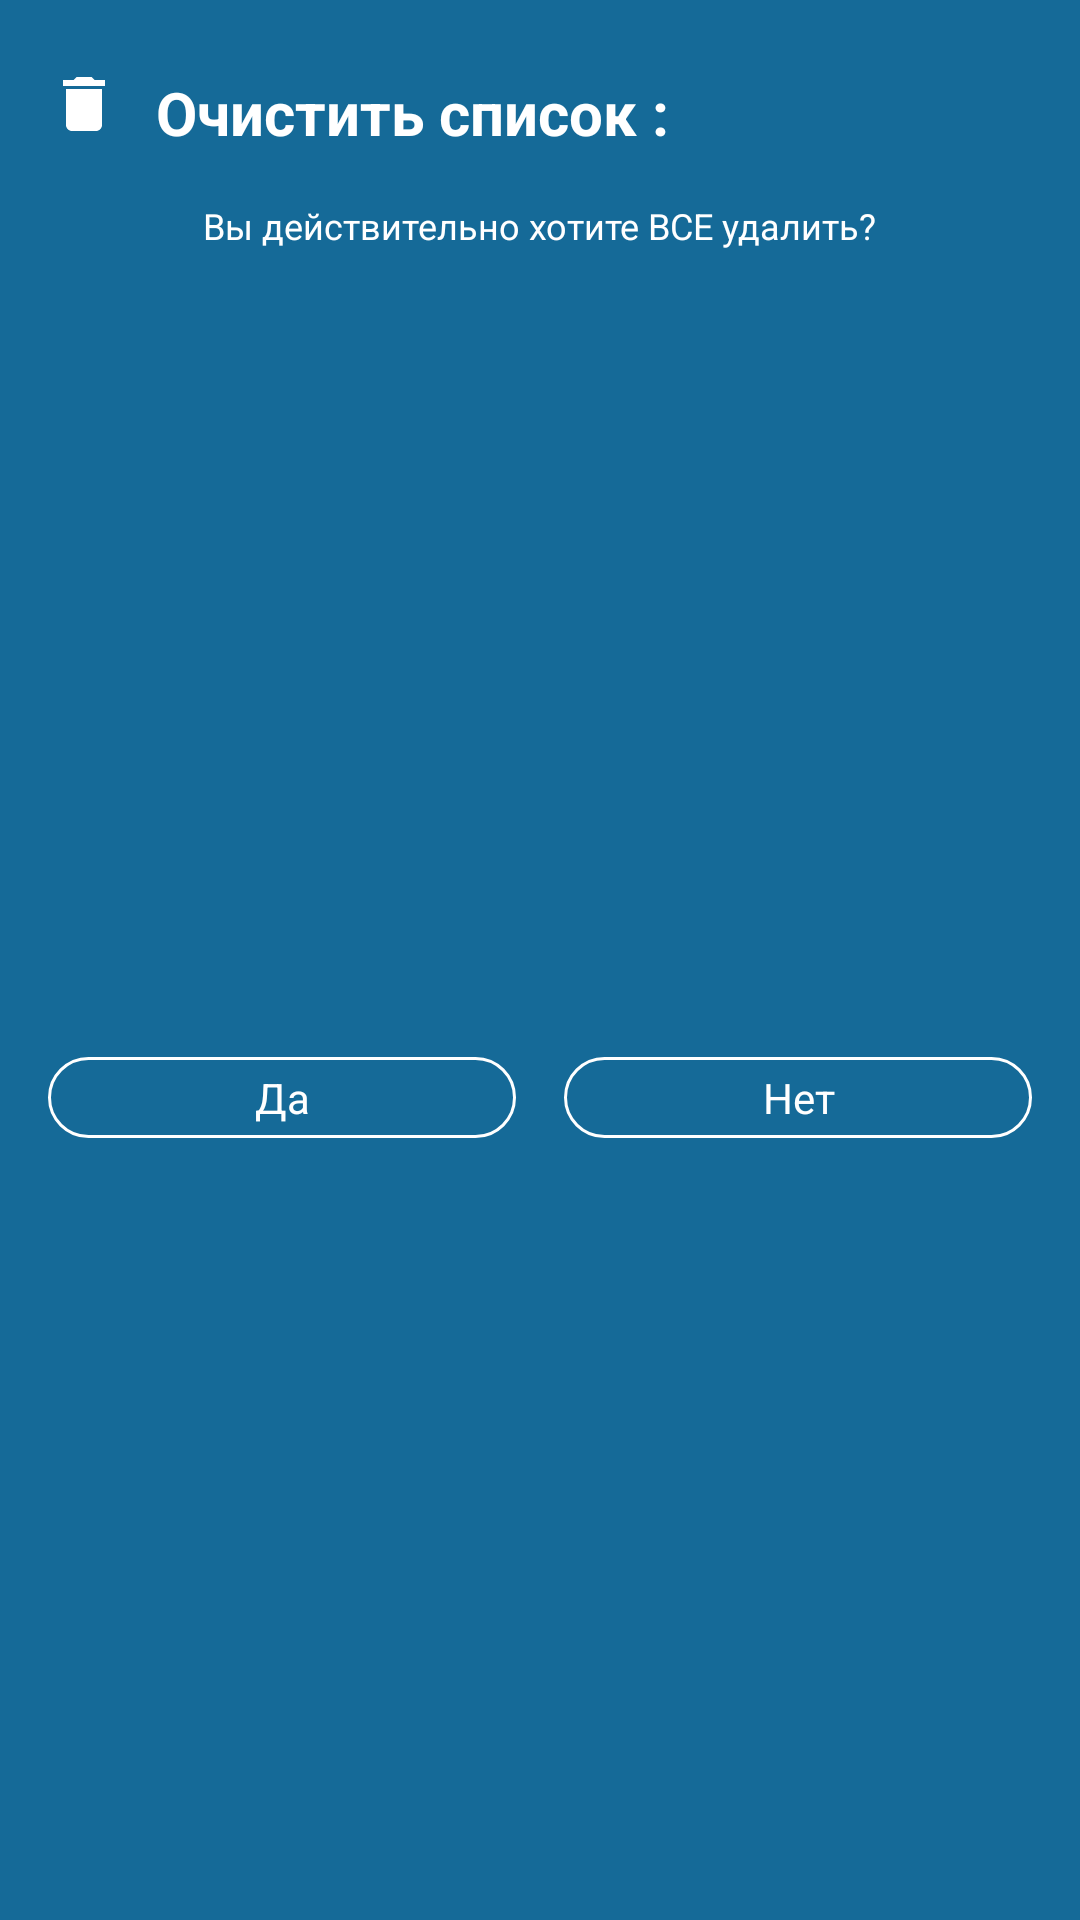

Icon click points for this 1080*1920 phone screenshot, format (x=x, y=y):
delete: (x=84, y=104)
